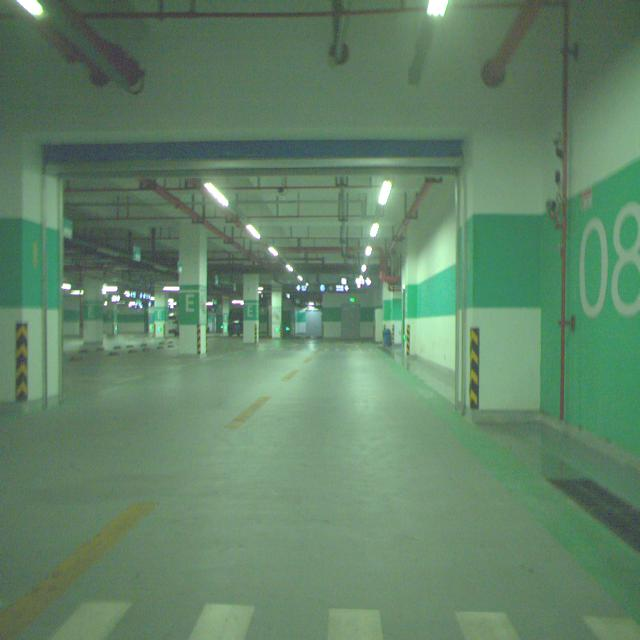pillar: (179, 223, 208, 352), (82, 277, 104, 345), (242, 273, 259, 344)
